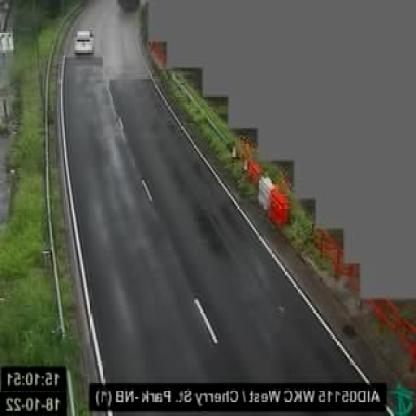Car: (74, 28, 95, 54)
